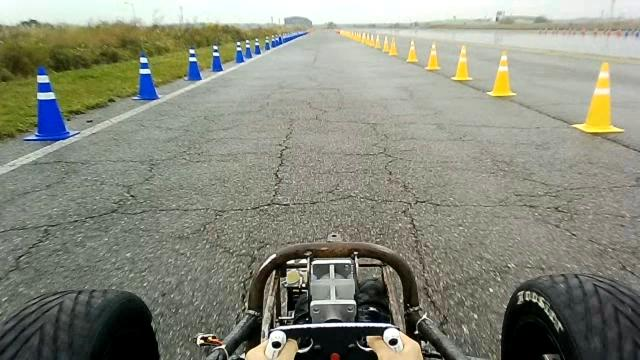blue cone: (22, 65, 80, 142), (131, 51, 160, 100), (184, 46, 203, 81), (209, 43, 224, 72), (234, 41, 245, 63), (244, 38, 253, 58), (253, 37, 262, 55), (264, 36, 271, 51)
yellow cone: (571, 61, 624, 134), (486, 50, 517, 97), (450, 44, 472, 81), (425, 42, 441, 70), (406, 39, 418, 63), (388, 38, 398, 56), (374, 34, 382, 50), (382, 35, 389, 52), (367, 33, 374, 47)
